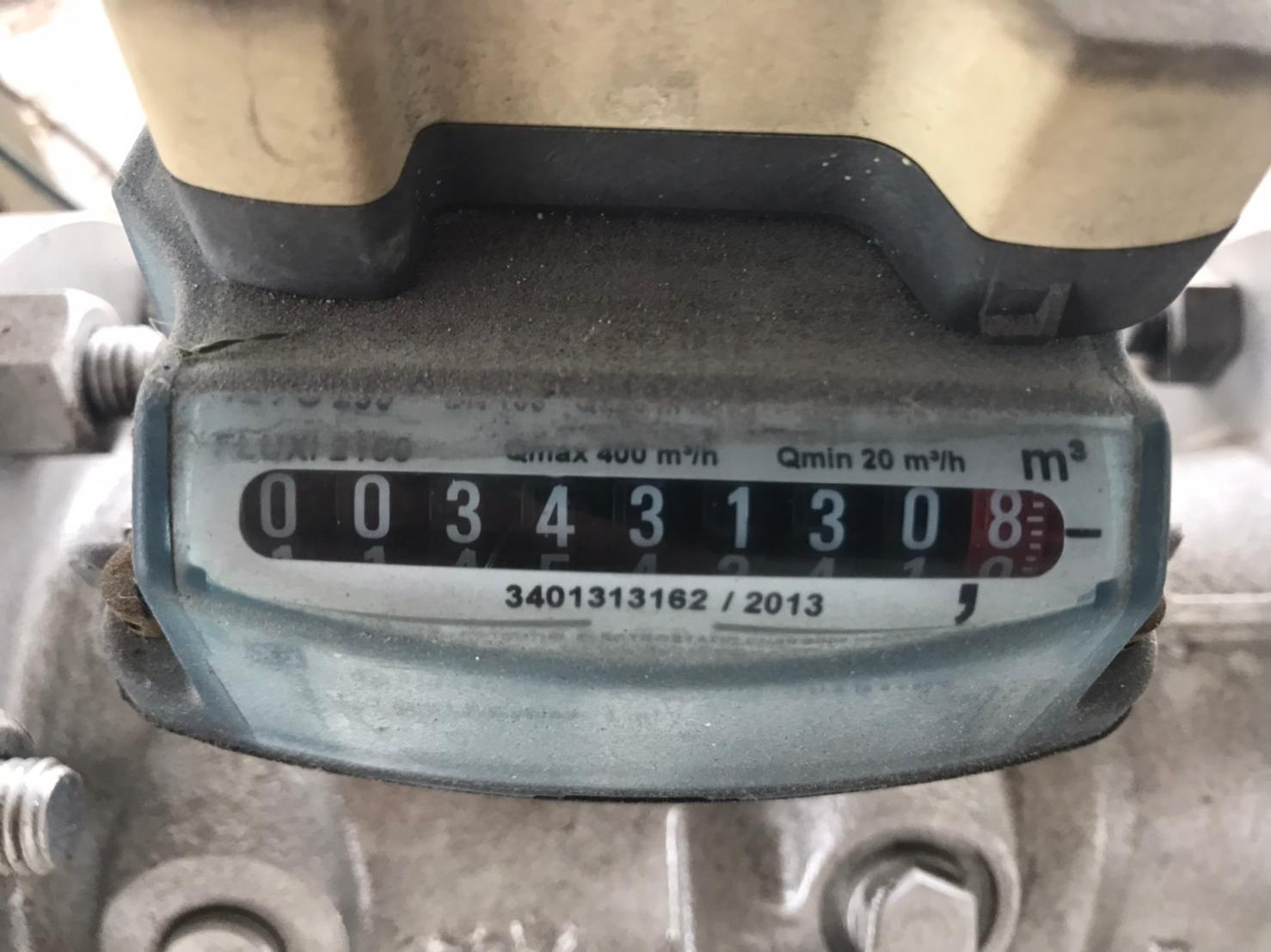analog_dial: (231, 458, 1101, 601)
